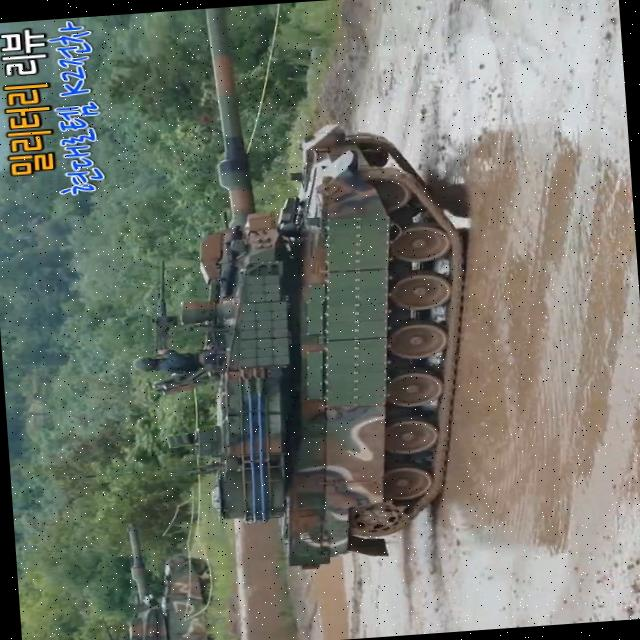korea tank: (105, 0, 489, 584)
